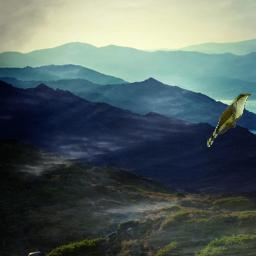Cuckoo: (207, 93, 251, 147)
